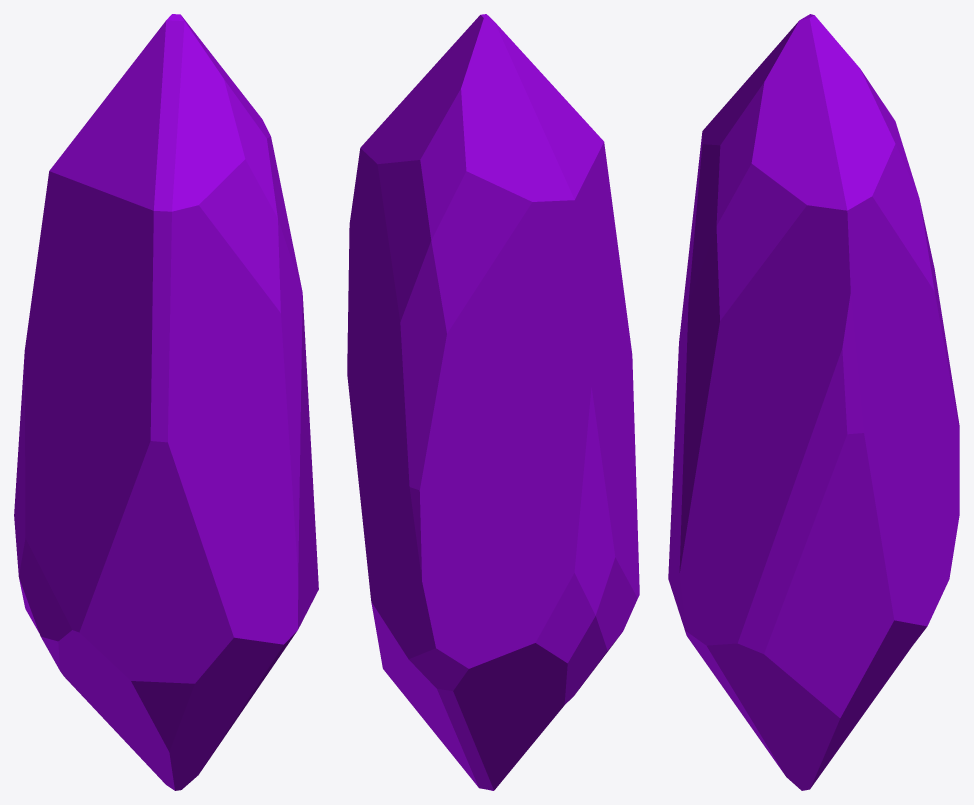
The model's file is kristal_02.fbx.
3 renders of one model, left to right at view 1: azimuth 30°, elevation 25°; view 2: azimuth 150°, elevation 25°; view 3: azimuth 270°, elevation 25°, orthographic.
Parts seen in each view (by area): view 1: kristal_02; view 2: kristal_02; view 3: kristal_02.
Boxes of the visible parts, x1,y1,x2,y2 form: kristal_02: (14,14,318,790); kristal_02: (347,14,639,790); kristal_02: (668,14,959,790).
Bounding box in the file's own units: 0.3604 × 0.3525 × 1.03.
